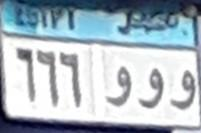6: (34, 49, 59, 106), (59, 51, 83, 109), (14, 45, 36, 104)
waw: (102, 61, 134, 109), (137, 65, 165, 113), (171, 63, 196, 115)
